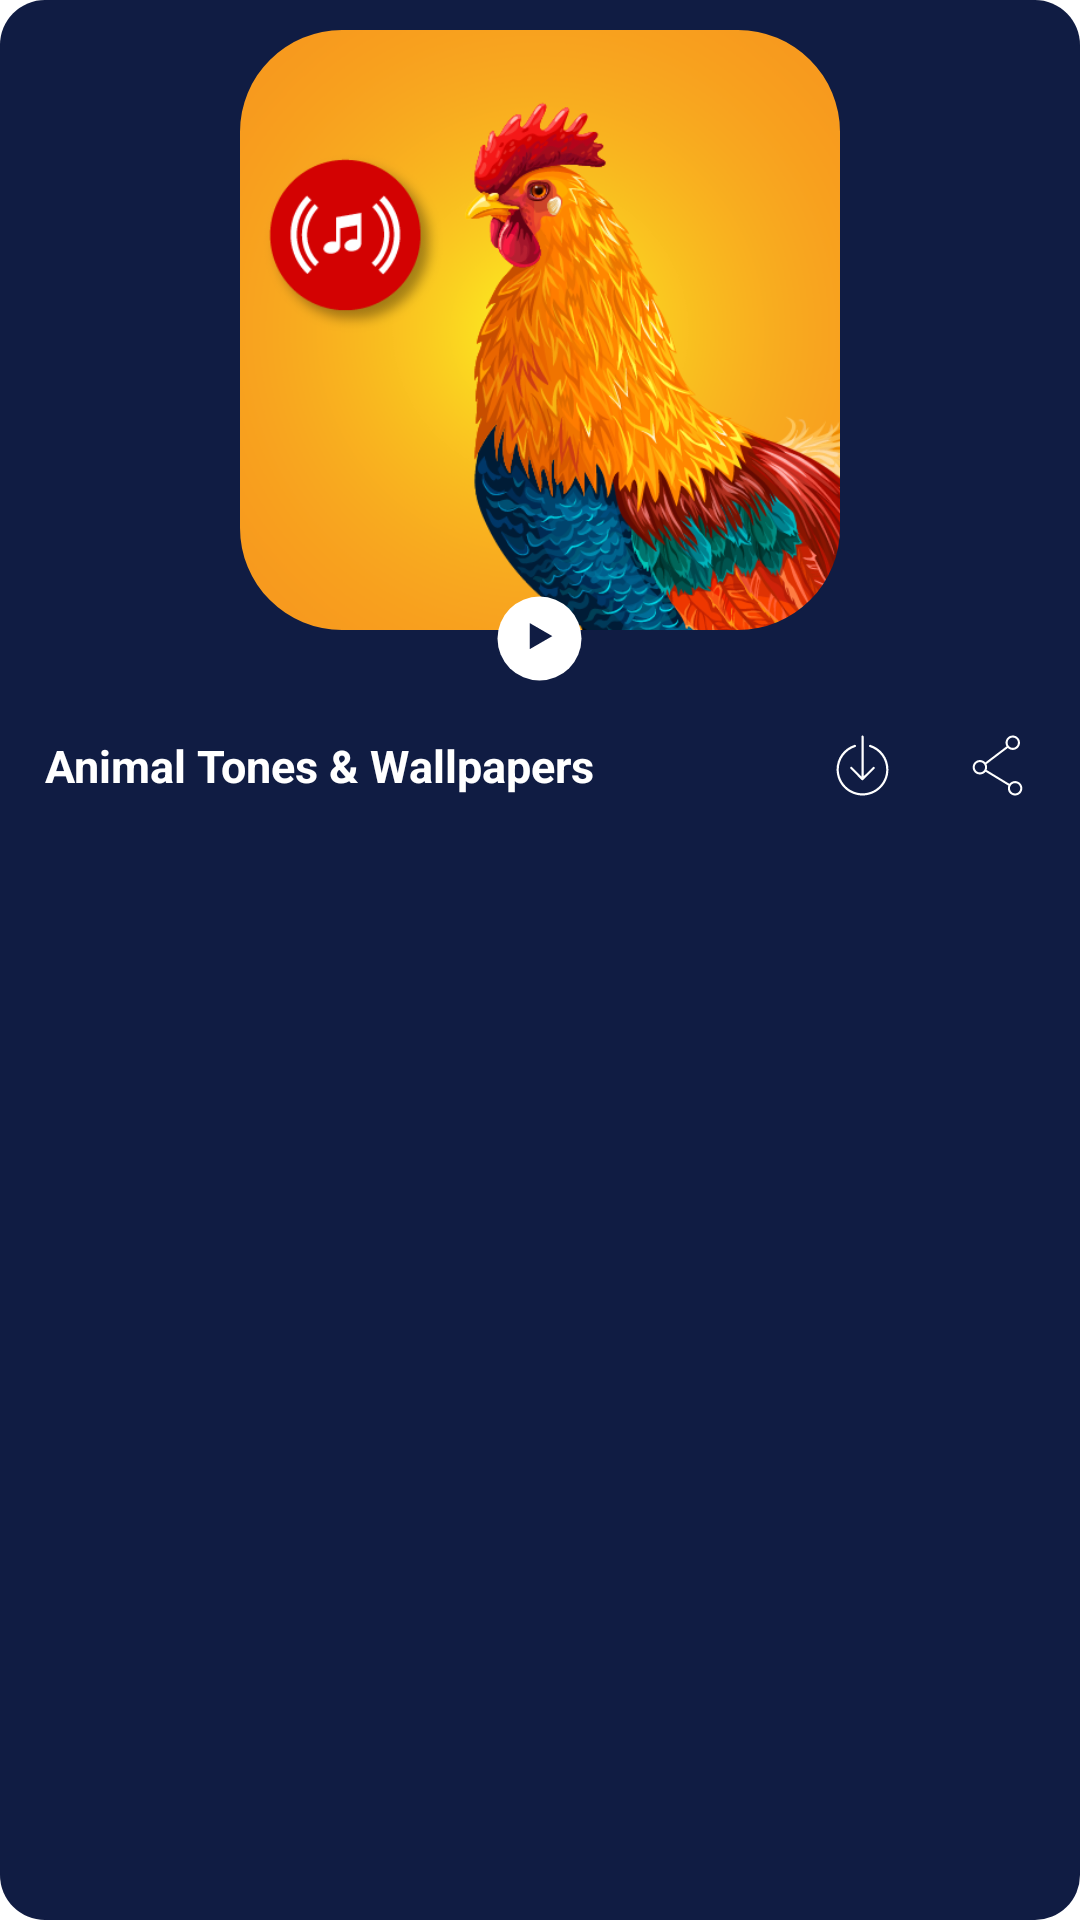

Where icons sit on this 1080w x 1920h app screen, as {"left": x1, "top": y1, "right": x2, "bottom": y2}:
play: {"left": 487, "top": 586, "right": 592, "bottom": 681}
